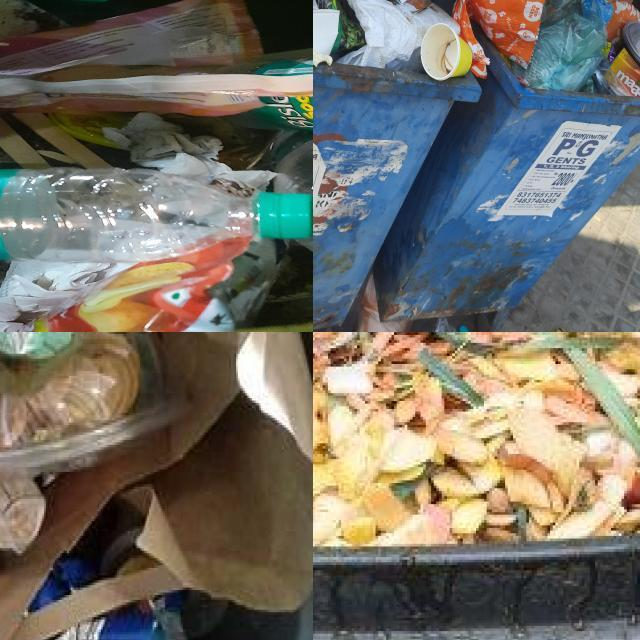Disposable: (355, 275, 413, 332)
Garbage: (0, 332, 313, 640), (313, 332, 640, 546), (313, 0, 640, 101), (313, 275, 472, 332)
Plastic: (623, 21, 640, 66), (458, 325, 469, 332)
Plastic_Bag: (0, 332, 189, 476), (513, 0, 614, 91), (342, 0, 460, 71), (0, 474, 46, 554), (48, 111, 135, 148), (591, 58, 631, 96)
Plastic_bottle: (0, 168, 313, 262)
Plastic_wraper: (0, 0, 313, 116), (17, 237, 277, 332), (318, 0, 366, 53), (606, 42, 617, 64)
Tetrapack: (610, 50, 640, 98)
